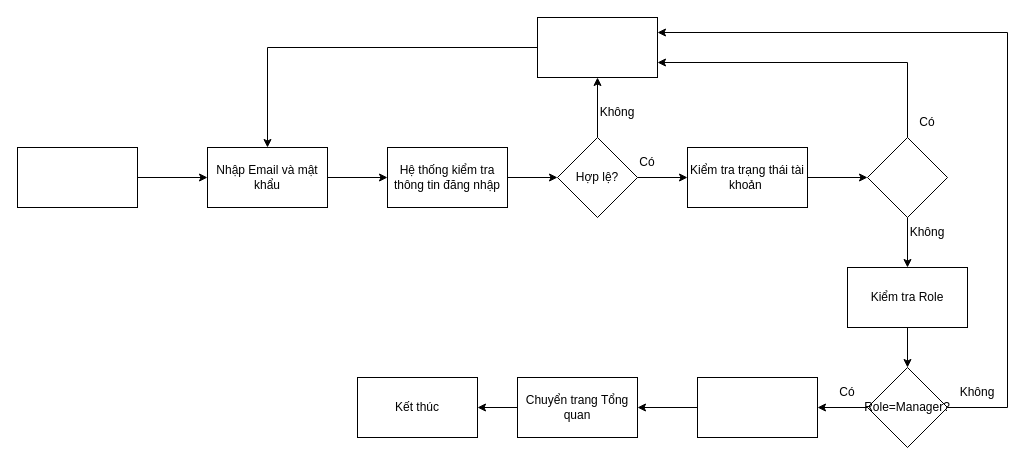
The diagram is 1033 pixels wide and 465 high, and some of its shapes have lost their labels. The centre of each missing label's shape, as x and y in pixels:
"Bị Khóa ?" belongs at [907,177].
"Lưu thông tin đăng nhập" belongs at [757,407].
"Thông báo lỗi" belongs at [597,47].
"Truy cập trang đăng nhâp dành cho nhân viên" belongs at [77,177].
